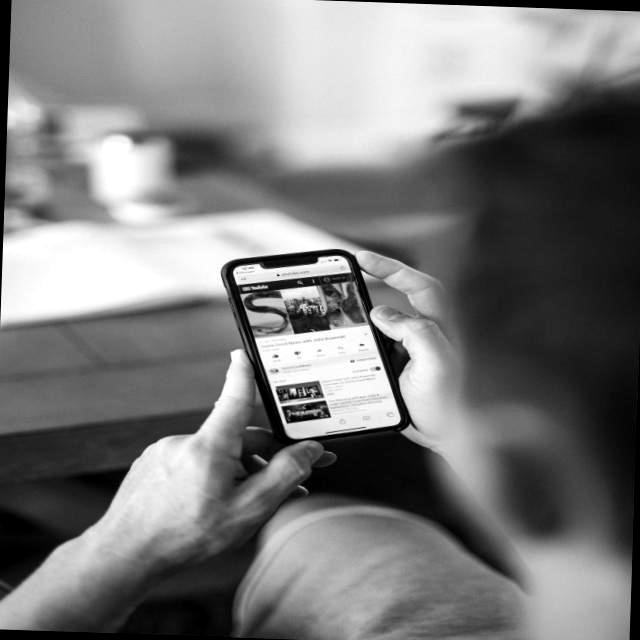phone: (214, 243, 418, 450)
